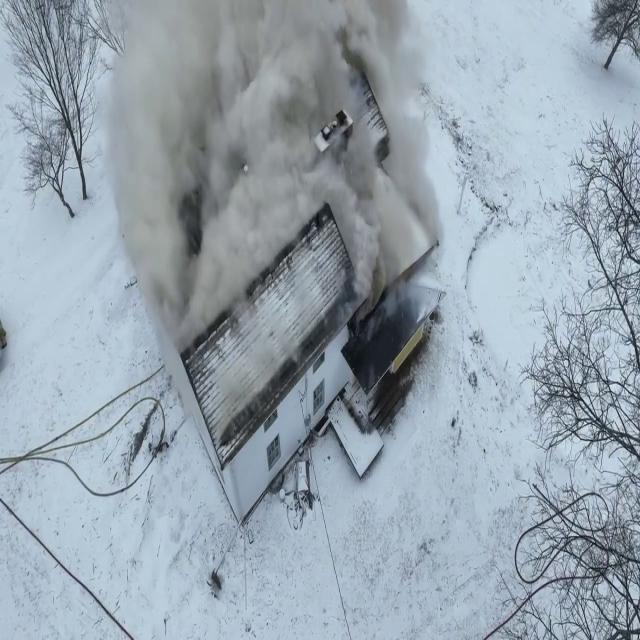Smoke: (94, 1, 468, 336)
